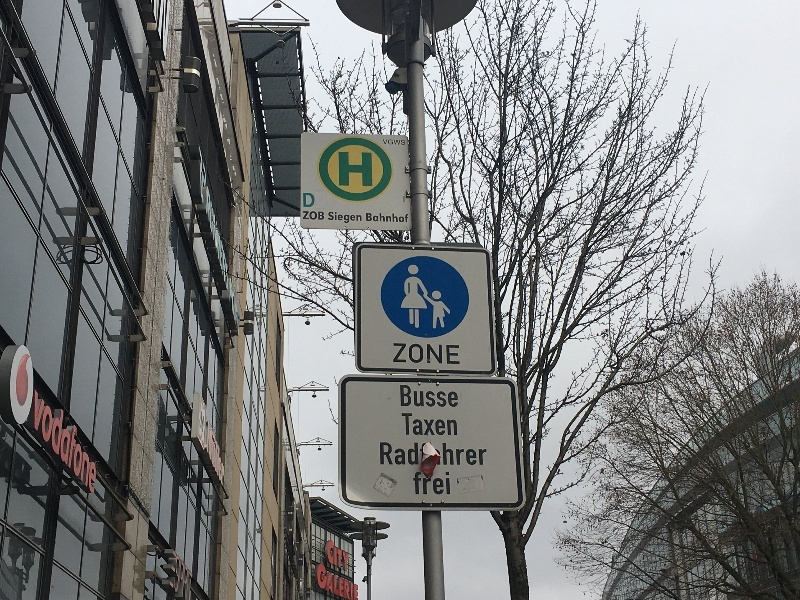text: (49, 383, 64, 498), (65, 383, 80, 498), (81, 383, 96, 498), (209, 185, 224, 294), (35, 383, 48, 498), (209, 414, 224, 488), (177, 541, 192, 600), (230, 278, 240, 339), (166, 541, 176, 600), (225, 185, 230, 294), (321, 564, 336, 600), (337, 564, 352, 600), (353, 152, 368, 186), (200, 145, 208, 207), (337, 538, 350, 572), (339, 152, 352, 186), (417, 472, 432, 495), (433, 472, 448, 495), (385, 443, 400, 466), (401, 443, 416, 466), (417, 443, 432, 466), (433, 443, 448, 466), (449, 443, 464, 466), (465, 443, 480, 466), (401, 413, 416, 436), (417, 413, 432, 436), (433, 413, 448, 436), (401, 385, 416, 408), (417, 385, 432, 408), (433, 385, 448, 408), (401, 344, 416, 365), (417, 344, 432, 365), (433, 344, 448, 365), (327, 538, 336, 572), (353, 564, 360, 600), (449, 344, 461, 365), (97, 383, 99, 498), (449, 385, 459, 408), (481, 443, 490, 466), (449, 413, 458, 436), (337, 212, 352, 225), (369, 213, 384, 223), (385, 213, 400, 223), (305, 193, 315, 207), (369, 152, 373, 186), (305, 211, 320, 220), (202, 412, 208, 434), (394, 344, 400, 365), (353, 212, 362, 225), (207, 185, 208, 294), (380, 443, 384, 466), (329, 212, 336, 225), (385, 140, 400, 145), (207, 414, 208, 488), (225, 414, 226, 488), (318, 564, 320, 600), (401, 213, 408, 223), (413, 472, 416, 495), (193, 541, 194, 600), (449, 472, 451, 495), (321, 211, 325, 220), (401, 140, 406, 145), (366, 213, 368, 223), (303, 193, 304, 207), (303, 211, 304, 220), (383, 140, 384, 145)
